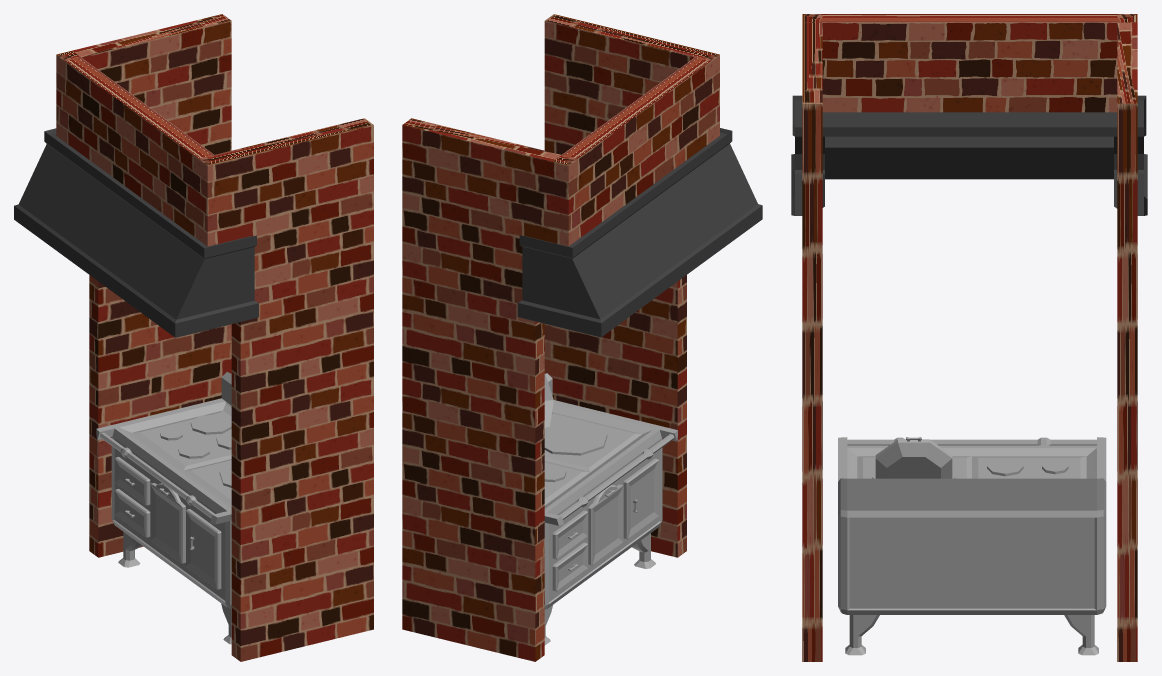
Rendered from aga.fbx.
The picture shows the model from 3 angles, left to right: view 1: azimuth 30°, elevation 25°; view 2: azimuth 150°, elevation 25°; view 3: azimuth 270°, elevation 25°; orthographic projection. The views are drawn at different scales.
Parts seen in each view (by area): view 1: brick, hood, doors, border, body, stovetop, rings; view 2: brick, hood, doors, border, body, rings, stovetop; view 3: brick, body, hood, border, lid, stovetop, rings.
Part boxes in pixels (x1,y1,x2,y2): brick: (56,14,373,661); hood: (14,128,258,337); doors: (115,457,221,589); border: (96,372,231,644); body: (114,403,231,600); stovetop: (140,412,231,499); rings: (160,414,231,487); brick: (402,14,719,661); hood: (517,128,762,337); doors: (552,458,658,591); border: (544,373,677,645); body: (544,406,659,601); rings: (544,422,607,482); stovetop: (544,413,635,498); brick: (802,14,1137,661); body: (849,449,1094,608); hood: (791,95,1147,215); border: (838,437,1106,655); lid: (875,439,952,478); stovetop: (863,457,1080,478); rings: (872,458,1068,478).
Size of the model in its own units: 3.68 by 8.71 by 5.04.
Materials: 3 (1 with a texture image).
